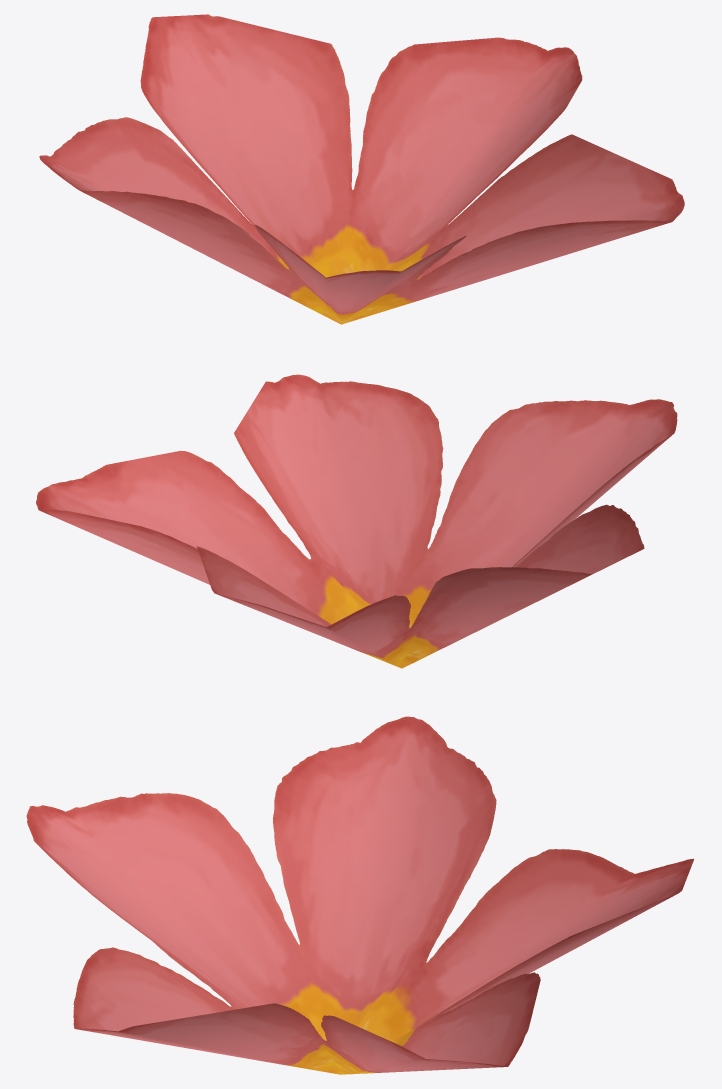
Rendered from Petal_5.fbx.
3 views of the same model, one above another, from view 1: azimuth 30°, elevation 25°; view 2: azimuth 150°, elevation 25°; view 3: azimuth 270°, elevation 25° (orthographic). The views are drawn at different scales.
Visible parts, largest first — view 1: Petal_5; view 2: Petal_5; view 3: Petal_5.
Part boxes in pixels (box(x1,y1,x2,y2)): Petal_5: box(39, 14, 684, 324); Petal_5: box(36, 374, 677, 668); Petal_5: box(26, 716, 694, 1074).
Bounding box in the file's own units: 83.4 × 28.88 × 79.52.
1 material, 1 textured.
